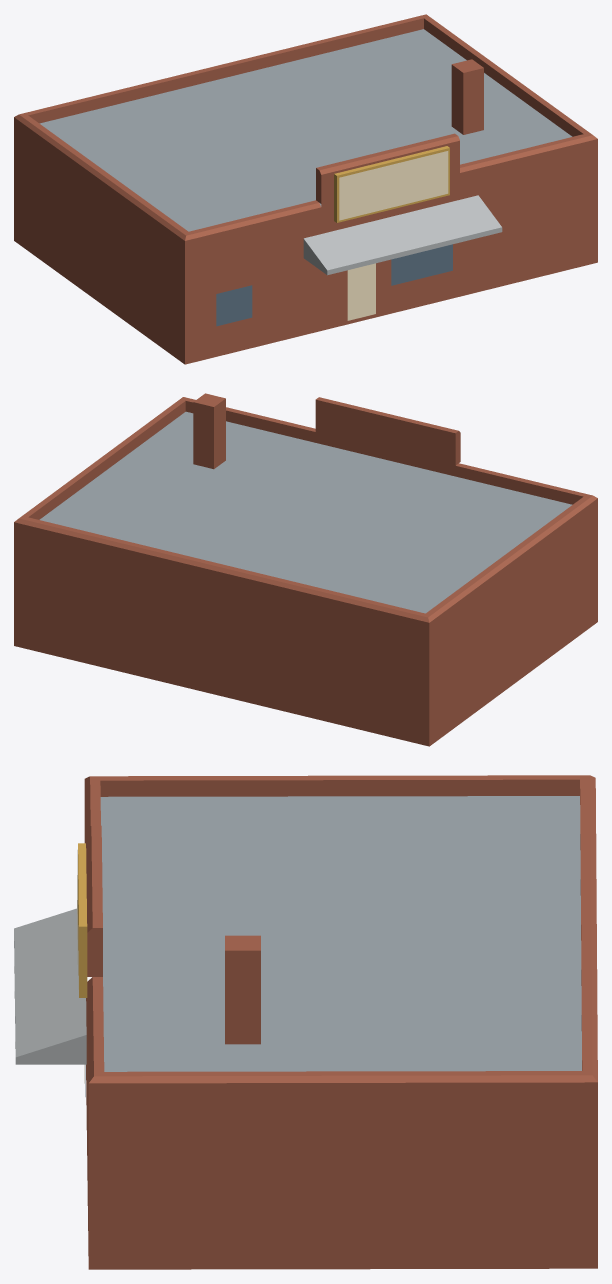
File: snug-harbor.glb
3 renders of one model, top to bottom at view 1: azimuth 30°, elevation 25°; view 2: azimuth 150°, elevation 25°; view 3: azimuth 270°, elevation 25°, orthographic. The views are drawn at different scales.
Parts seen in each view (by area): view 1: Snug Harbor; view 2: Snug Harbor; view 3: Snug Harbor.
Boxes of the visible parts, bbox=[...] form: Snug Harbor: bbox=[14, 14, 597, 364]; Snug Harbor: bbox=[14, 393, 597, 746]; Snug Harbor: bbox=[14, 775, 597, 1269].
Bounding box in the file's own units: 16.11 × 6.6 × 13.01.
